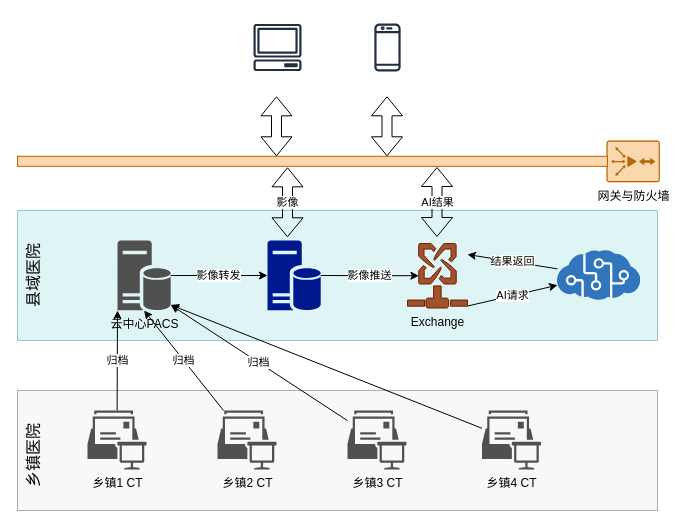
Some shapes in this 687 by 528 pixel diagram are drawn without their labels. Each missing label, with the box of its shape:
AI应用: (557, 250, 640, 300)
Cetus: (267, 240, 320, 310)
PC客户端: (246, 16, 308, 78)
移动客户端: (356, 16, 418, 78)
